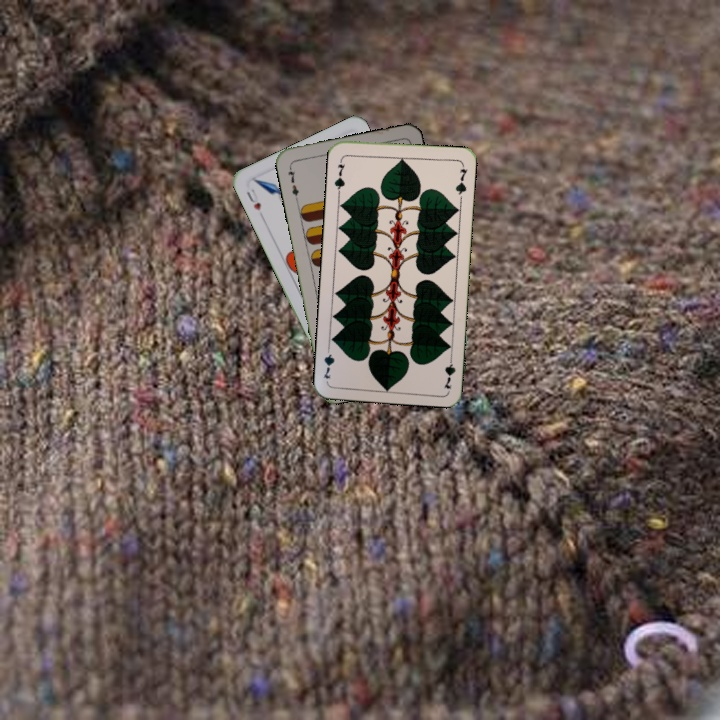E7: (284, 162, 301, 203)
G7: (330, 154, 348, 195), (440, 350, 458, 391)
HU: (243, 184, 263, 213)
